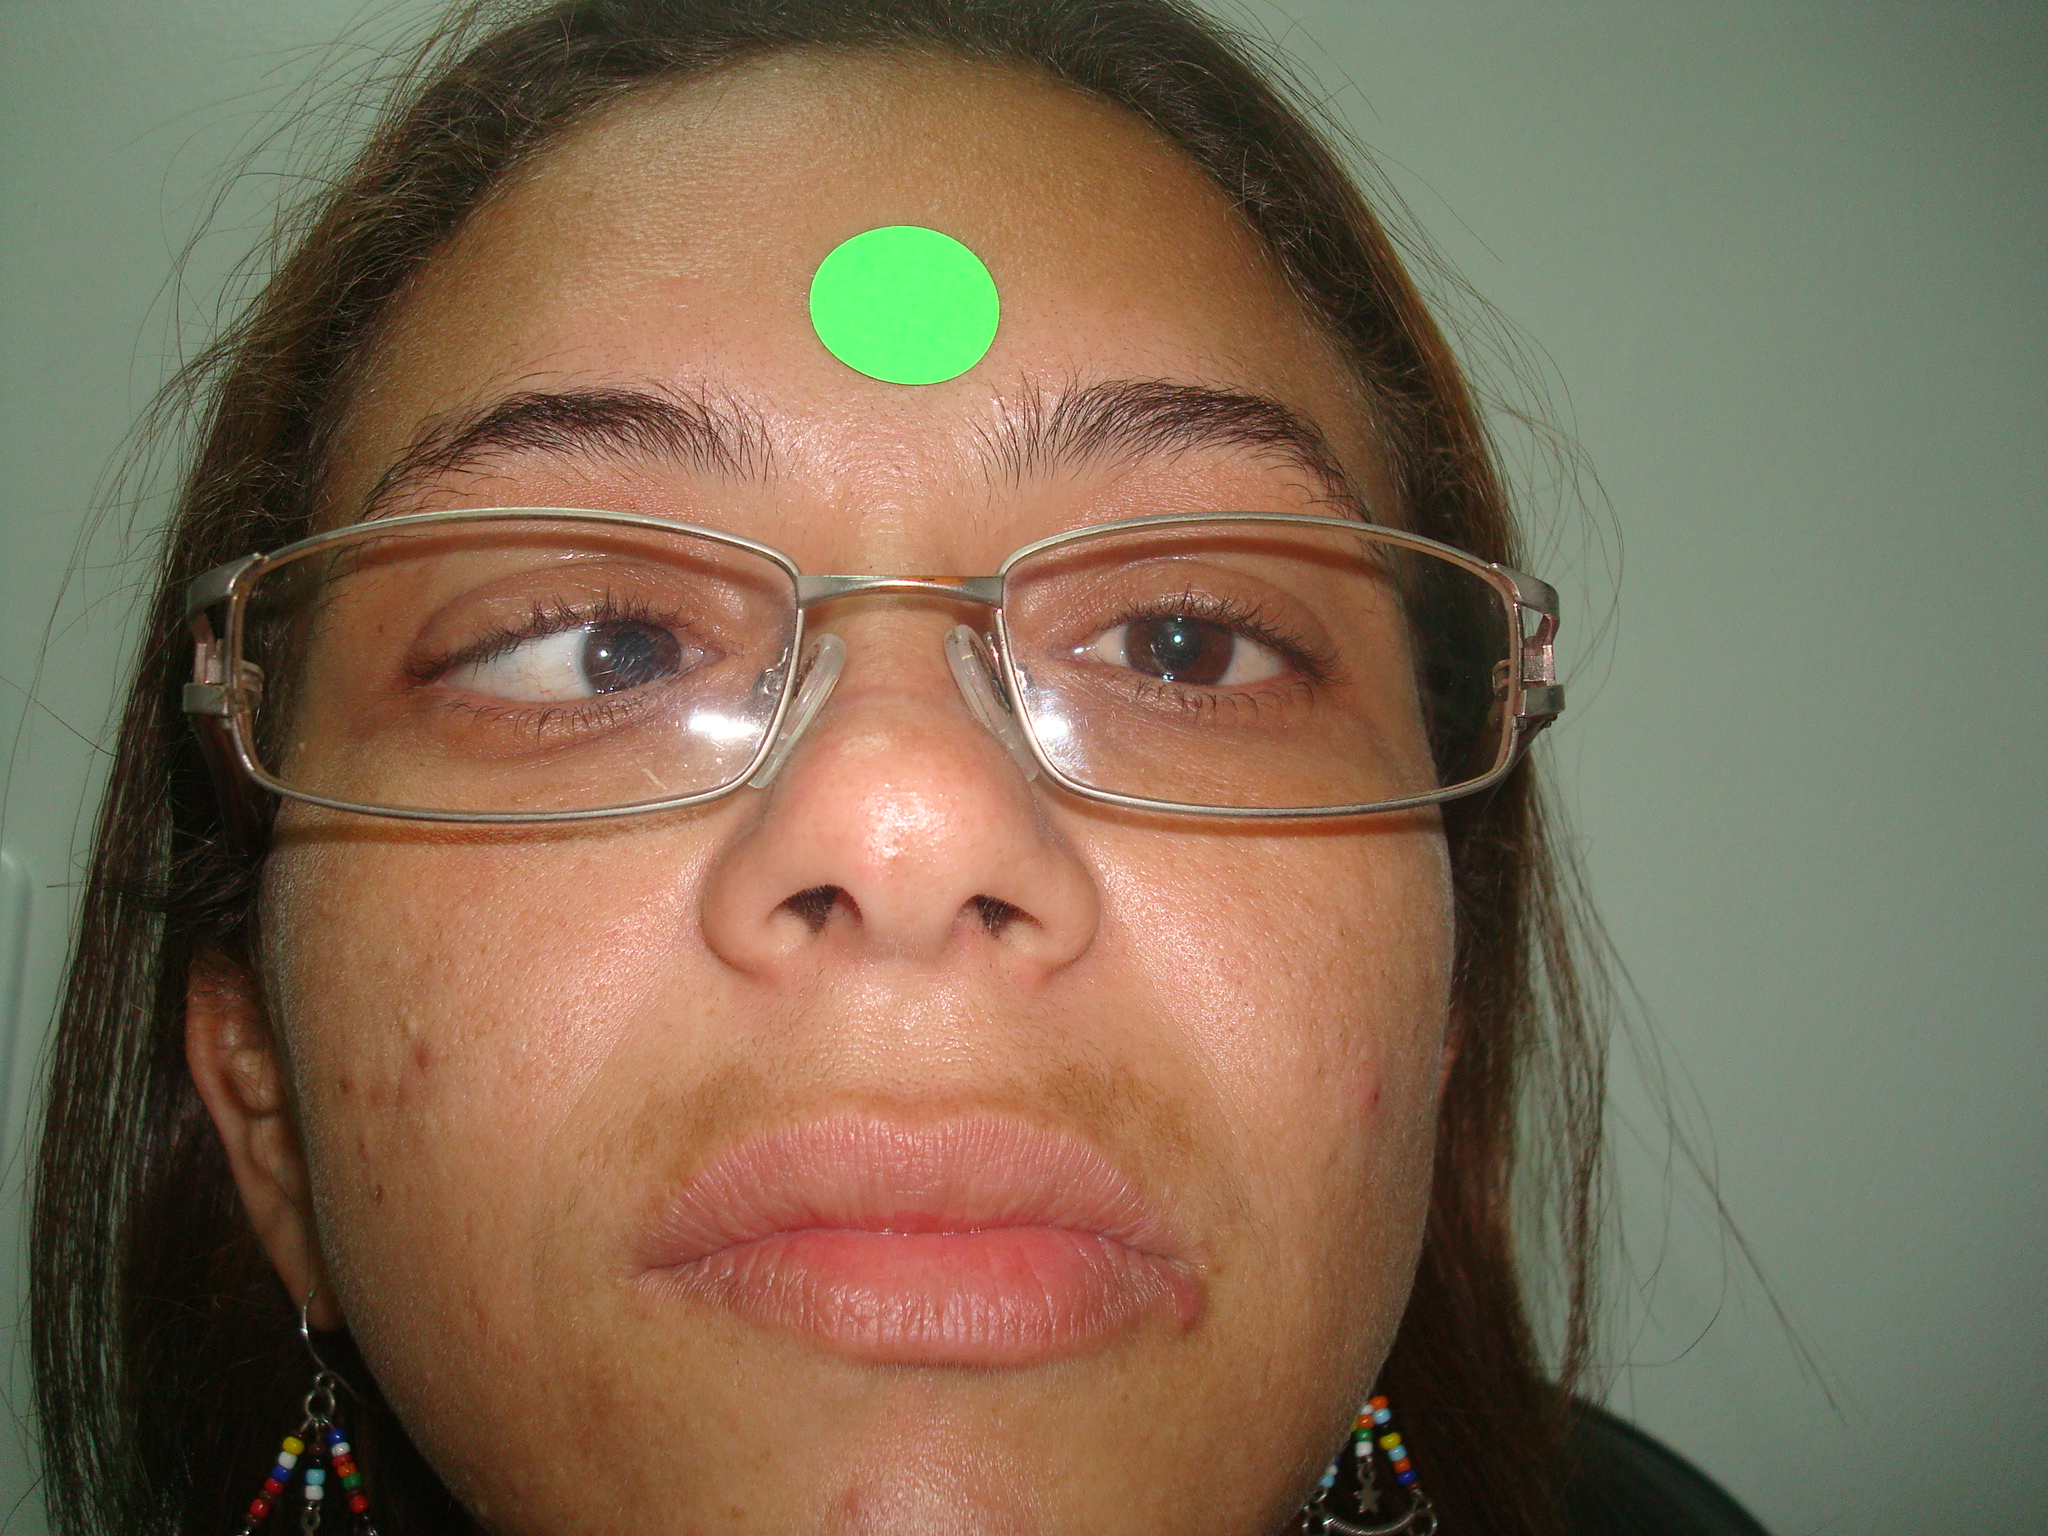flash: (597, 647, 611, 662), (1171, 631, 1184, 645)
limbo: (1121, 597, 1230, 689), (585, 610, 679, 694)
